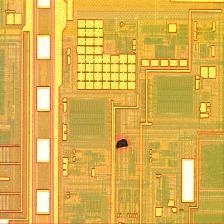PARTICLE: (113, 134, 133, 154)
